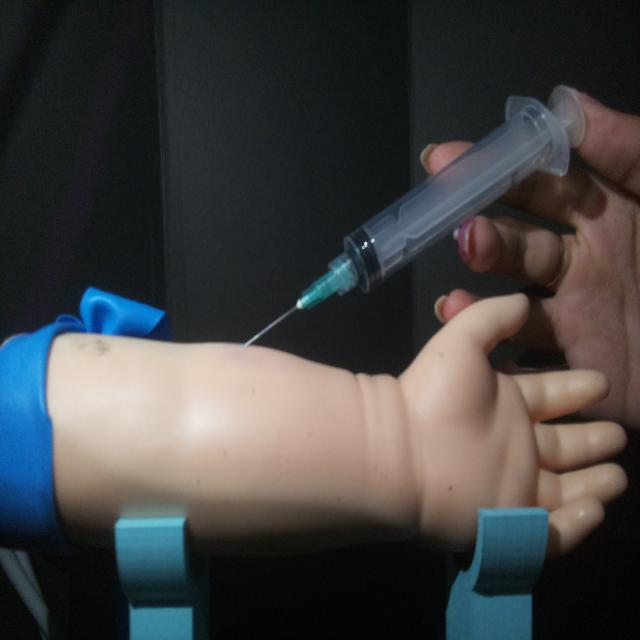30deg: (238, 82, 588, 351)
